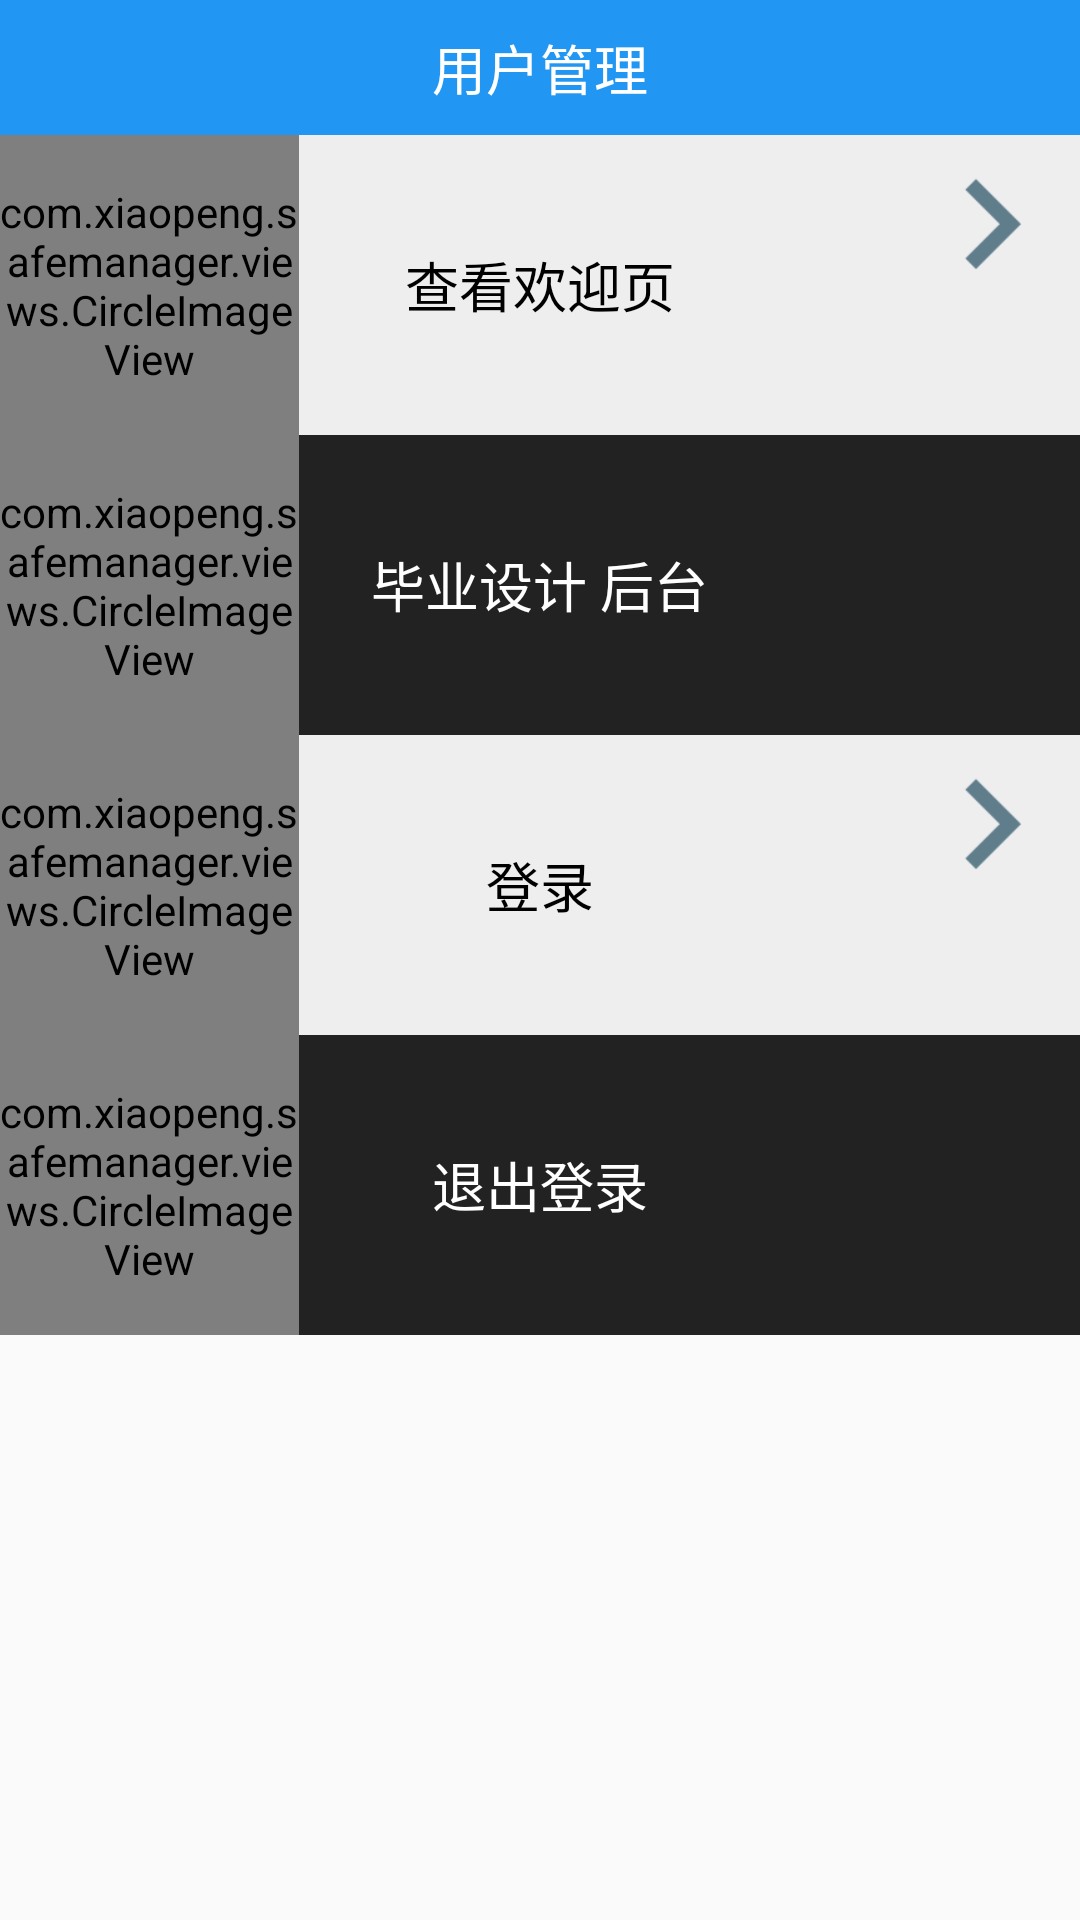

Point at icon controls on the screen. Image size 1080×1920, points as [x,y].
keyboard arrow right: [993,224], [993,824]
